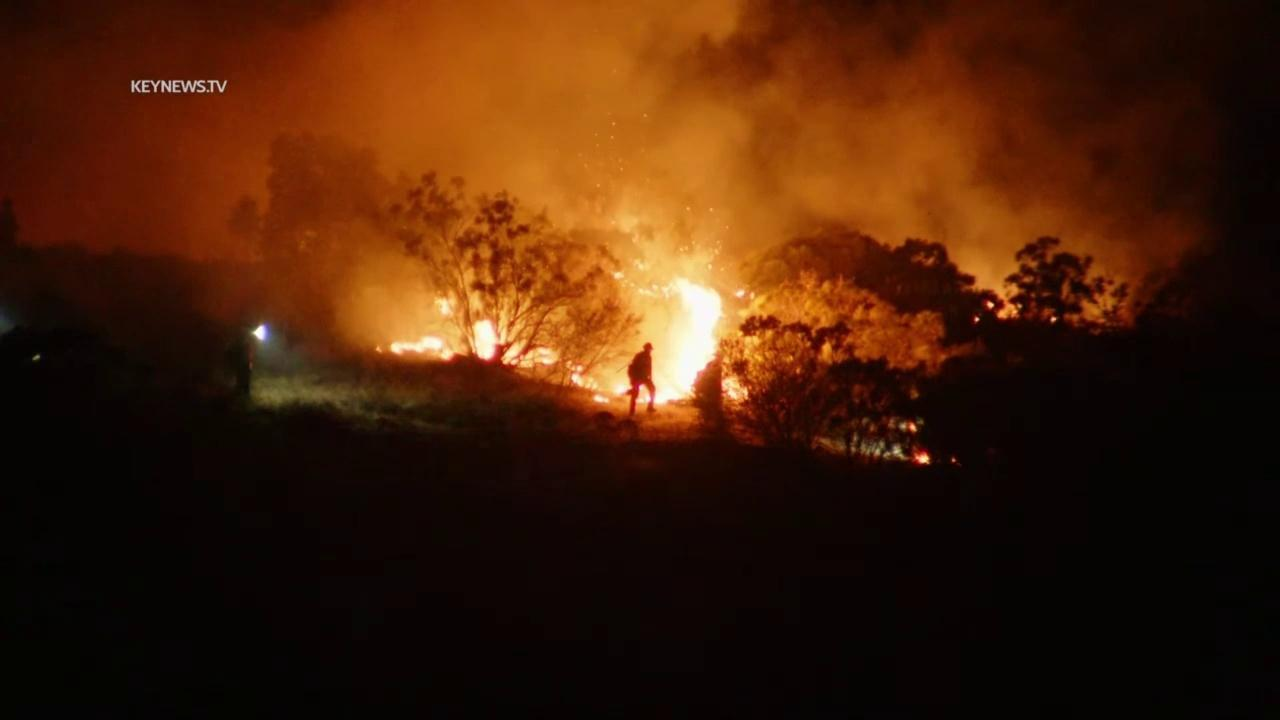fire: (633, 270, 748, 406), (565, 360, 632, 398), (388, 335, 456, 363), (471, 315, 499, 364), (504, 342, 554, 367), (912, 446, 937, 469), (435, 296, 453, 316), (906, 421, 920, 436), (593, 395, 609, 405), (613, 269, 626, 280), (631, 257, 644, 268), (986, 299, 996, 311), (735, 287, 745, 298), (373, 344, 384, 354), (972, 315, 981, 325), (1048, 315, 1058, 324), (951, 456, 957, 464)
smoke: (0, 0, 1220, 398)
